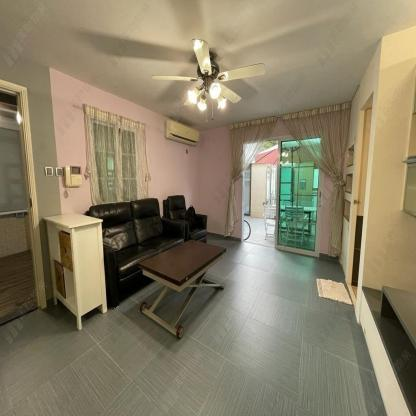AC: (165, 119, 200, 147)
Dining Table: (138, 239, 227, 291)
Sofa: (86, 194, 207, 310)
